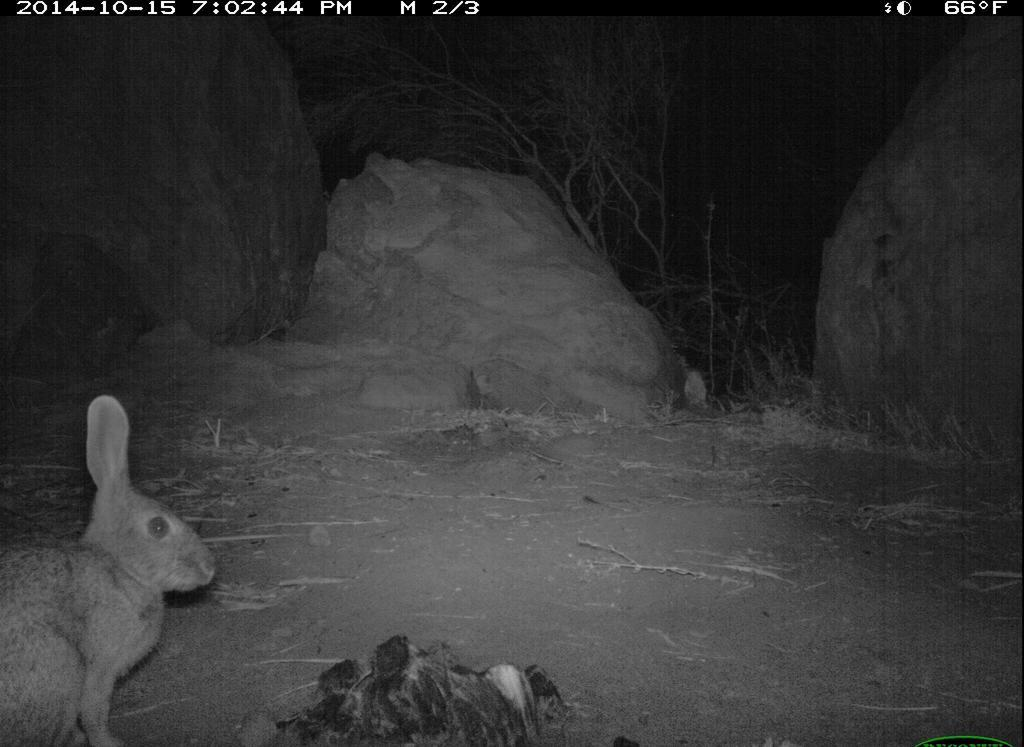rabbit: (3, 374, 237, 747)
